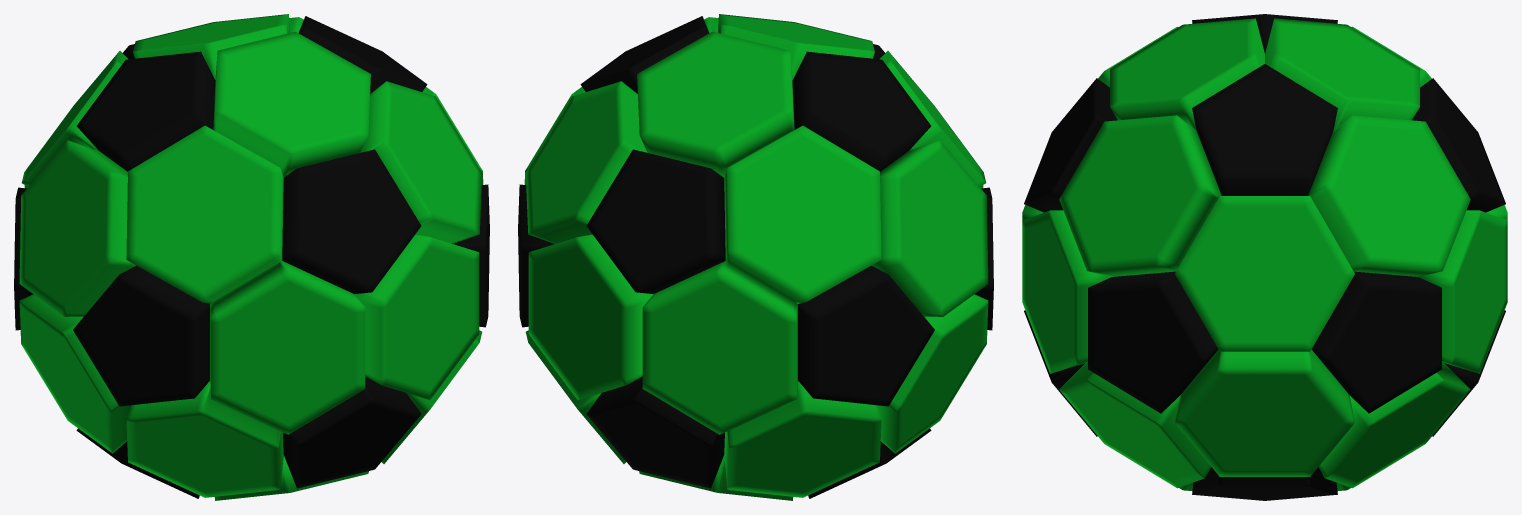
File: ballG.dae
The picture shows the model from 3 angles, left to right: view 1: azimuth 30°, elevation 25°; view 2: azimuth 150°, elevation 25°; view 3: azimuth 270°, elevation 25°; orthographic projection.
Parts seen in each view (by area): view 1: ball; view 2: ball; view 3: ball.
Part boxes in pixels (x1,y1,x2,y2): ball: [14, 14, 489, 500]; ball: [518, 14, 993, 500]; ball: [1022, 14, 1507, 500].
Size of the model in its own units: 2.01 by 2.01 by 2.01.
